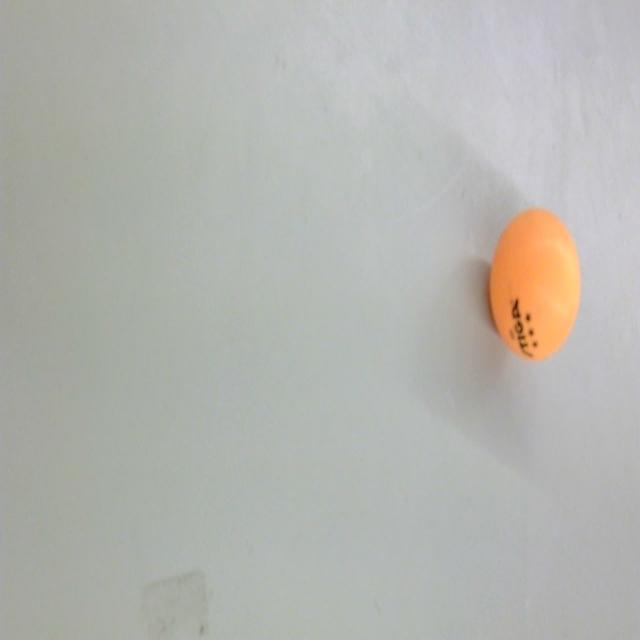ball: (486, 208, 584, 364)
